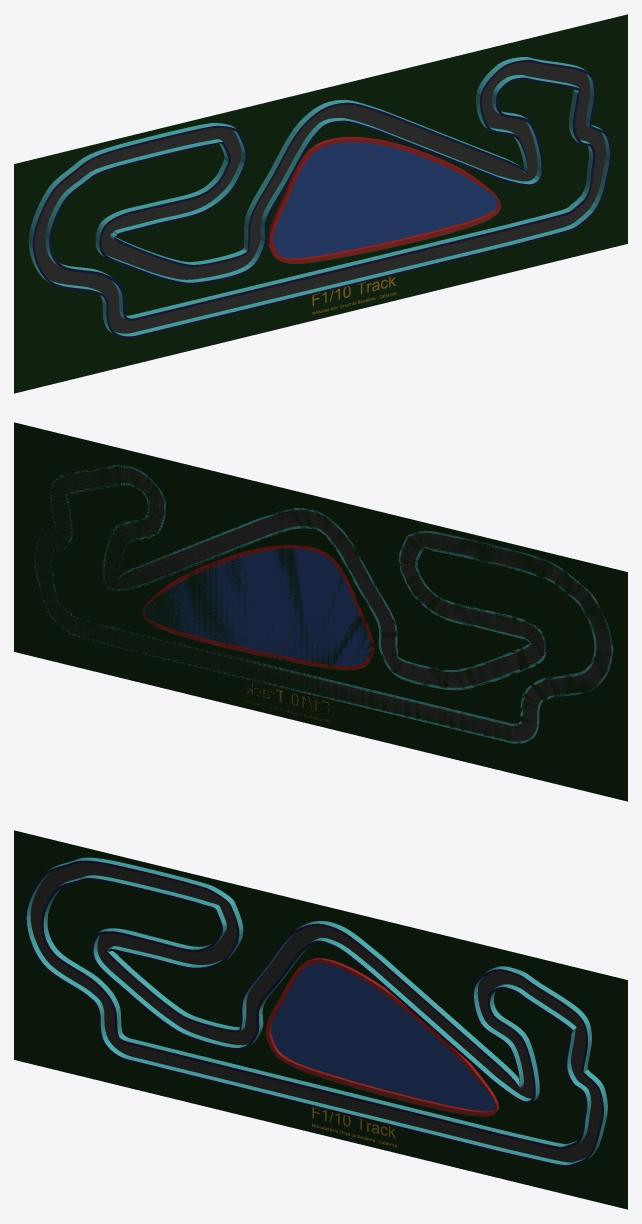
The model's file is barca_track.obj.
3 renders of one model, top to bottom at view 1: azimuth 30°, elevation 25°; view 2: azimuth 150°, elevation 25°; view 3: azimuth 330°, elevation 25°, orthographic.
Parts seen in each view (by area): view 1: Box001_Box001Mesh, Line002_Line002Mesh, Line001_Line001Mesh, Line003_Line003Mesh, Line004_Line004Mesh; view 2: Box001_Box001Mesh, Line001_Line001Mesh, Line003_Line003Mesh, Line002_Line002Mesh, Line004_Line004Mesh; view 3: Box001_Box001Mesh, Line002_Line002Mesh, Line001_Line001Mesh, Line003_Line003Mesh, Line004_Line004Mesh.
Boxes of the visible parts, x1,y1,x2,y2 form: Box001_Box001Mesh: [14, 14, 627, 393]; Line002_Line002Mesh: [28, 57, 611, 338]; Line001_Line001Mesh: [34, 62, 605, 333]; Line003_Line003Mesh: [273, 142, 497, 258]; Line004_Line004Mesh: [267, 137, 501, 263]; Box001_Box001Mesh: [14, 422, 627, 801]; Line001_Line001Mesh: [36, 467, 611, 741]; Line003_Line003Mesh: [144, 549, 370, 666]; Line002_Line002Mesh: [34, 465, 613, 743]; Line004_Line004Mesh: [143, 545, 374, 670]; Box001_Box001Mesh: [14, 830, 627, 1209]; Line002_Line002Mesh: [24, 857, 607, 1167]; Line001_Line001Mesh: [30, 862, 601, 1162]; Line003_Line003Mesh: [271, 964, 495, 1111]; Line004_Line004Mesh: [265, 958, 498, 1117].
Size of the model in its own units: 70 by 25 by 0.8.
